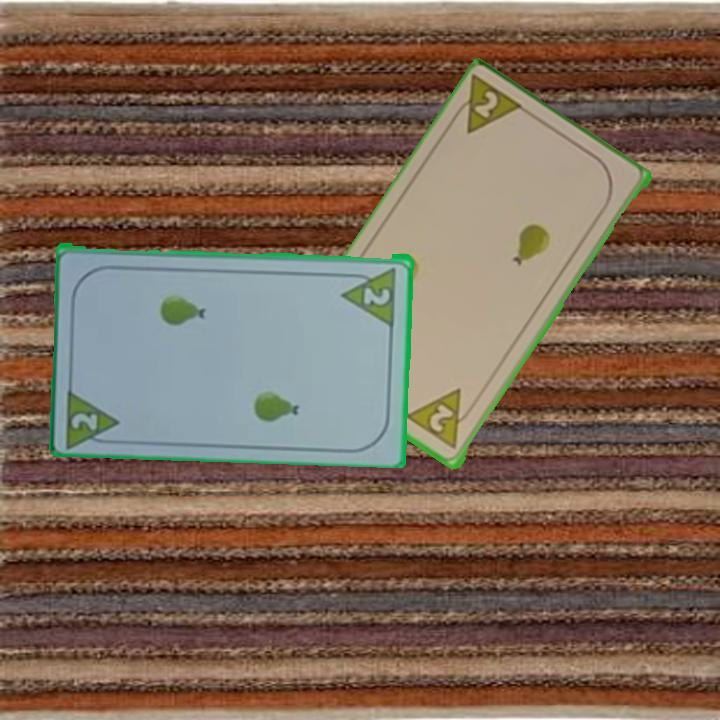2p: (446, 72, 529, 138), (404, 385, 479, 453), (339, 263, 399, 326), (68, 409, 101, 432)
